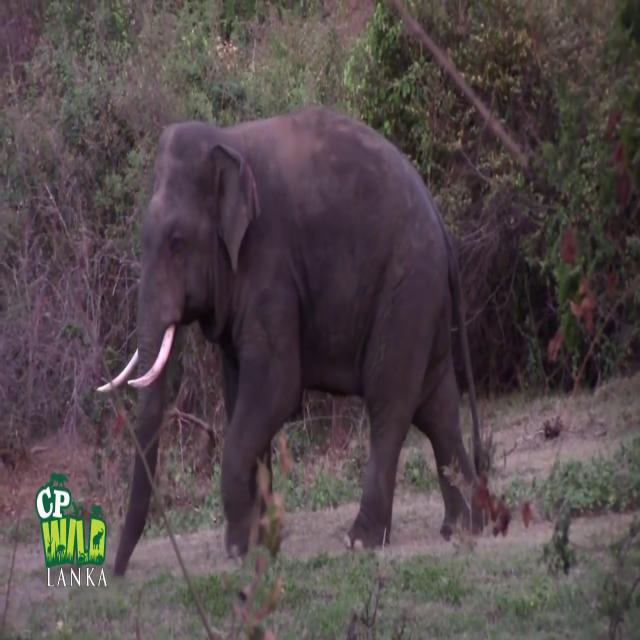Elephant: (96, 104, 490, 579)
